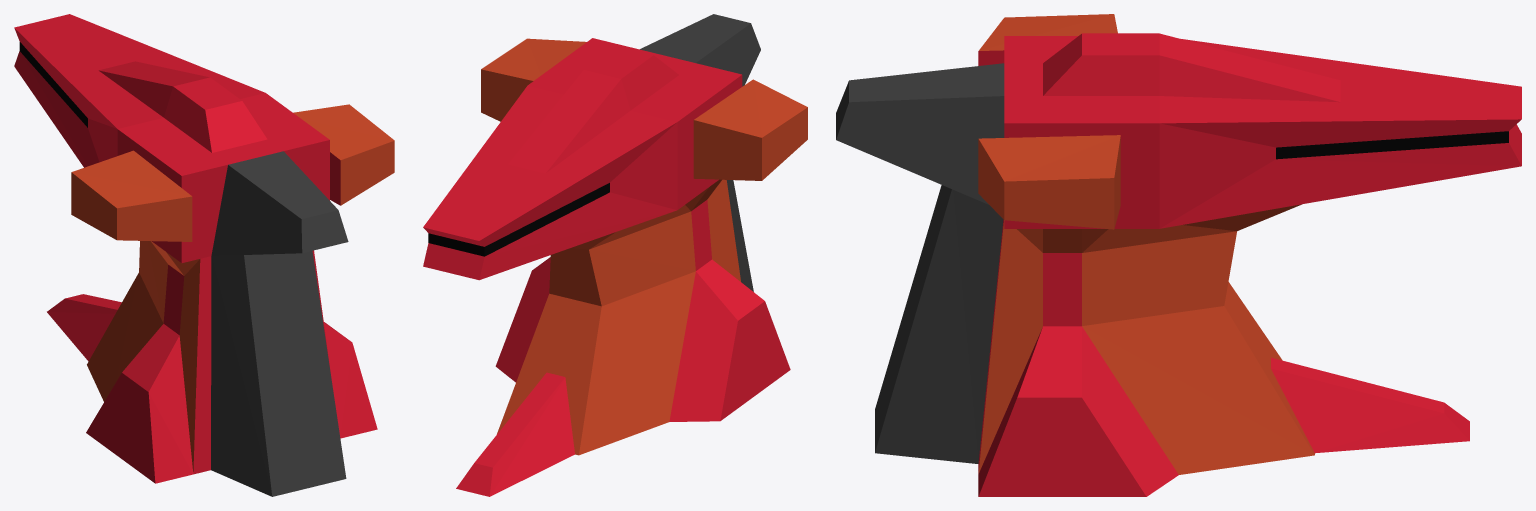
The model's file is Body.FBX.
The picture shows the model from 3 angles, left to right: view 1: azimuth 30°, elevation 25°; view 2: azimuth 150°, elevation 25°; view 3: azimuth 270°, elevation 25°; orthographic projection. The views are drawn at different scales.
Visible parts, largest first — view 1: VIFS001, VIFS004, VIFS003, VIFS002; view 2: VIFS001, VIFS003, VIFS004, VIFS002; view 3: VIFS001, VIFS003, VIFS004, VIFS002.
Boxes of the visible parts, left/top/right/bottom form: VIFS001: left=14, top=14, right=377, bottom=483; VIFS004: left=211, top=151, right=348, bottom=496; VIFS003: left=71, top=104, right=394, bottom=471; VIFS002: left=19, top=42, right=87, bottom=127; VIFS001: left=423, top=38, right=790, bottom=496; VIFS003: left=481, top=38, right=807, bottom=455; VIFS004: left=640, top=14, right=760, bottom=291; VIFS002: left=428, top=183, right=609, bottom=256; VIFS001: left=978, top=33, right=1521, bottom=496; VIFS003: left=978, top=14, right=1314, bottom=474; VIFS004: left=836, top=63, right=1004, bottom=463; VIFS002: left=1276, top=131, right=1508, bottom=159.
Bounding box in the file's own units: 0.3 × 0.33 × 0.53.
